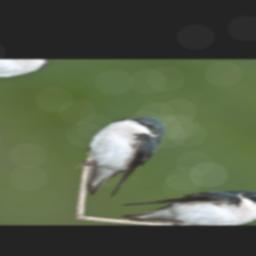Swallow: (32, 106, 212, 203)
